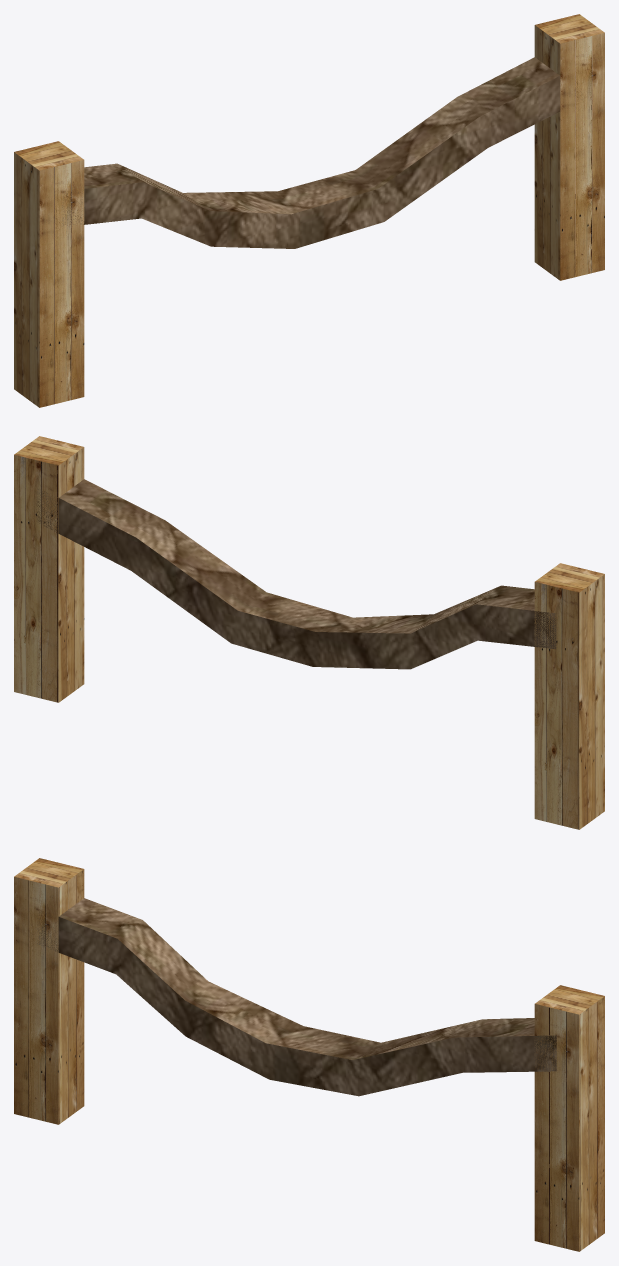
Rendered from fence.fbx.
3 renders of one model, top to bottom at view 1: azimuth 30°, elevation 25°; view 2: azimuth 150°, elevation 25°; view 3: azimuth 330°, elevation 25°, orthographic.
Visible parts, largest first — view 1: pCube3, pCube1, pCube2; view 2: pCube3, pCube1, pCube2; view 3: pCube3, pCube2, pCube1.
Boxes of the visible parts, bbox=[...] form: pCube3: bbox=[62, 57, 560, 248]; pCube1: bbox=[14, 141, 84, 407]; pCube2: bbox=[534, 14, 604, 280]; pCube3: bbox=[37, 479, 556, 669]; pCube1: bbox=[534, 563, 604, 829]; pCube2: bbox=[14, 436, 84, 702]; pCube3: bbox=[37, 898, 556, 1096]; pCube2: bbox=[534, 985, 604, 1251]; pCube1: bbox=[14, 858, 84, 1124].
Bounding box in the file's own units: 7.98 × 3.2 × 0.6244.
Materials: 2 (2 with a texture image).
